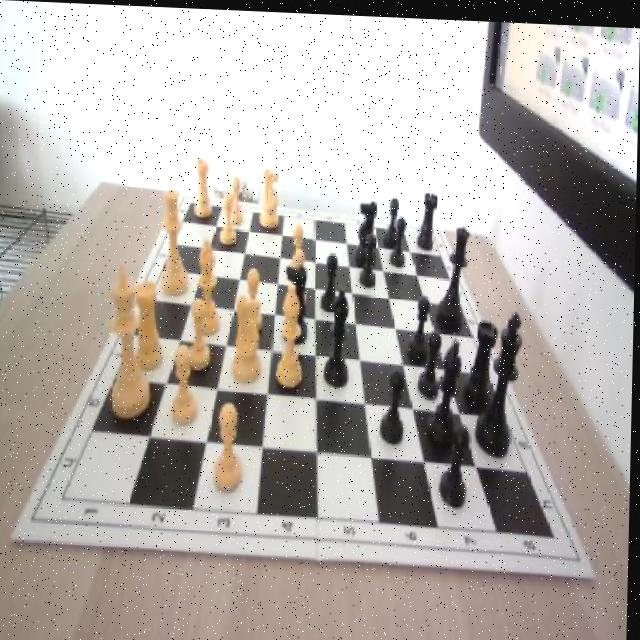bishop: (428, 331, 464, 449), (326, 285, 351, 384)
black-bishop: (477, 308, 524, 454)
black-king: (352, 189, 379, 266), (285, 259, 310, 341)
black-knight: (441, 419, 471, 504), (382, 363, 409, 441), (418, 326, 443, 396), (409, 290, 432, 358), (323, 248, 342, 310), (361, 230, 381, 287), (391, 212, 407, 266), (385, 194, 402, 244)
black-pawn: (437, 220, 472, 327)
black-queen: (466, 313, 499, 403), (419, 189, 439, 246)
black-rook: (276, 285, 305, 386), (194, 236, 222, 334)
white-bishop: (110, 257, 155, 417)
white-king: (227, 282, 268, 385), (259, 161, 283, 227)
white-knight: (213, 400, 247, 491), (170, 340, 202, 426), (186, 295, 215, 372), (240, 266, 266, 334), (289, 247, 310, 307), (289, 221, 309, 278), (227, 176, 246, 225), (221, 191, 239, 241)
white-pawn: (160, 186, 194, 293)
white-queen: (135, 274, 166, 369), (195, 156, 214, 219)
